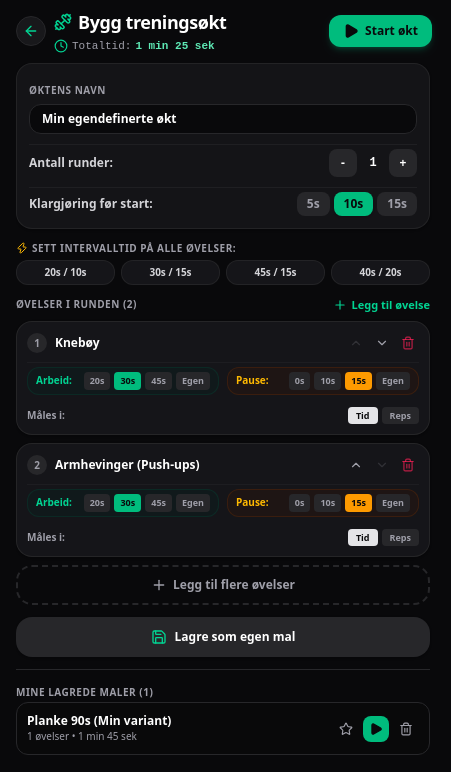
Test: Programbyggeren — redigering av egen mal › forlater redigeringen når brukeren starter på nytt
Click the button with aria-label "Rediger Planke 90s" at (99, 720), box [23, 709, 337, 748]
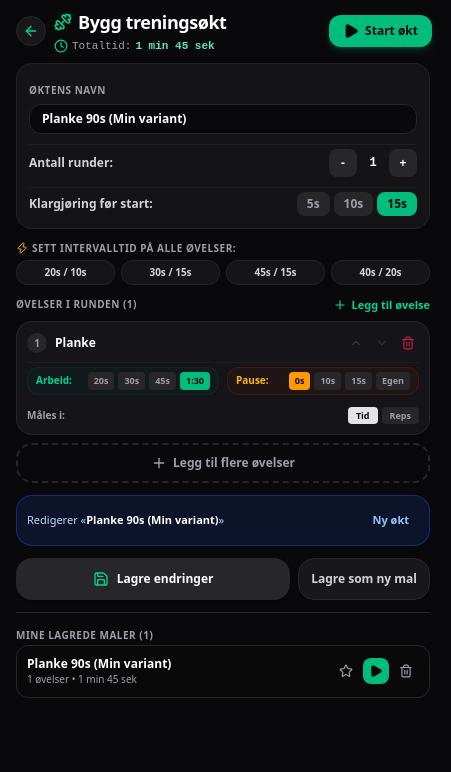
Click the button with aria-label "Start på en tom økt" at (391, 520), box [362, 506, 419, 534]
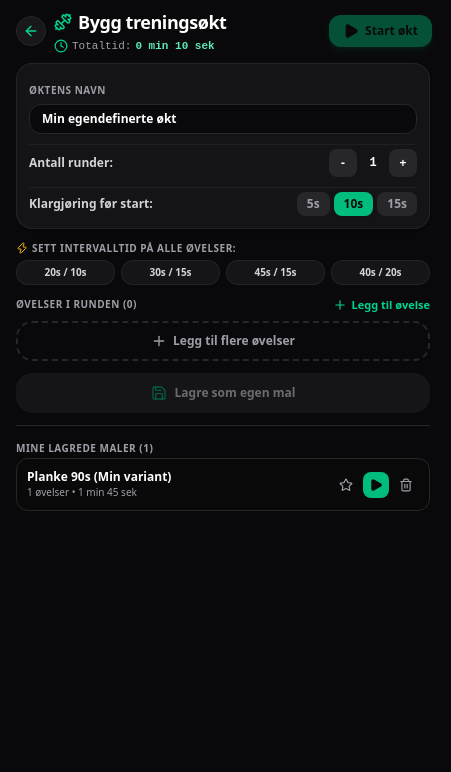
Expected: the text "Redigerer «" is gone
Expected: the button "Lagre som ny mal" is gone
Expected: the button "Lagre som egen mal" is disabled, [16, 373, 430, 413]
